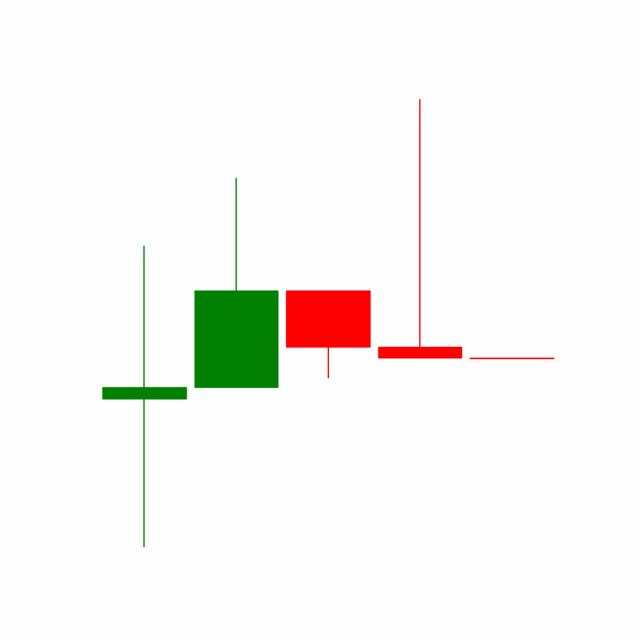Gravestone Doji: (373, 95, 467, 361)
